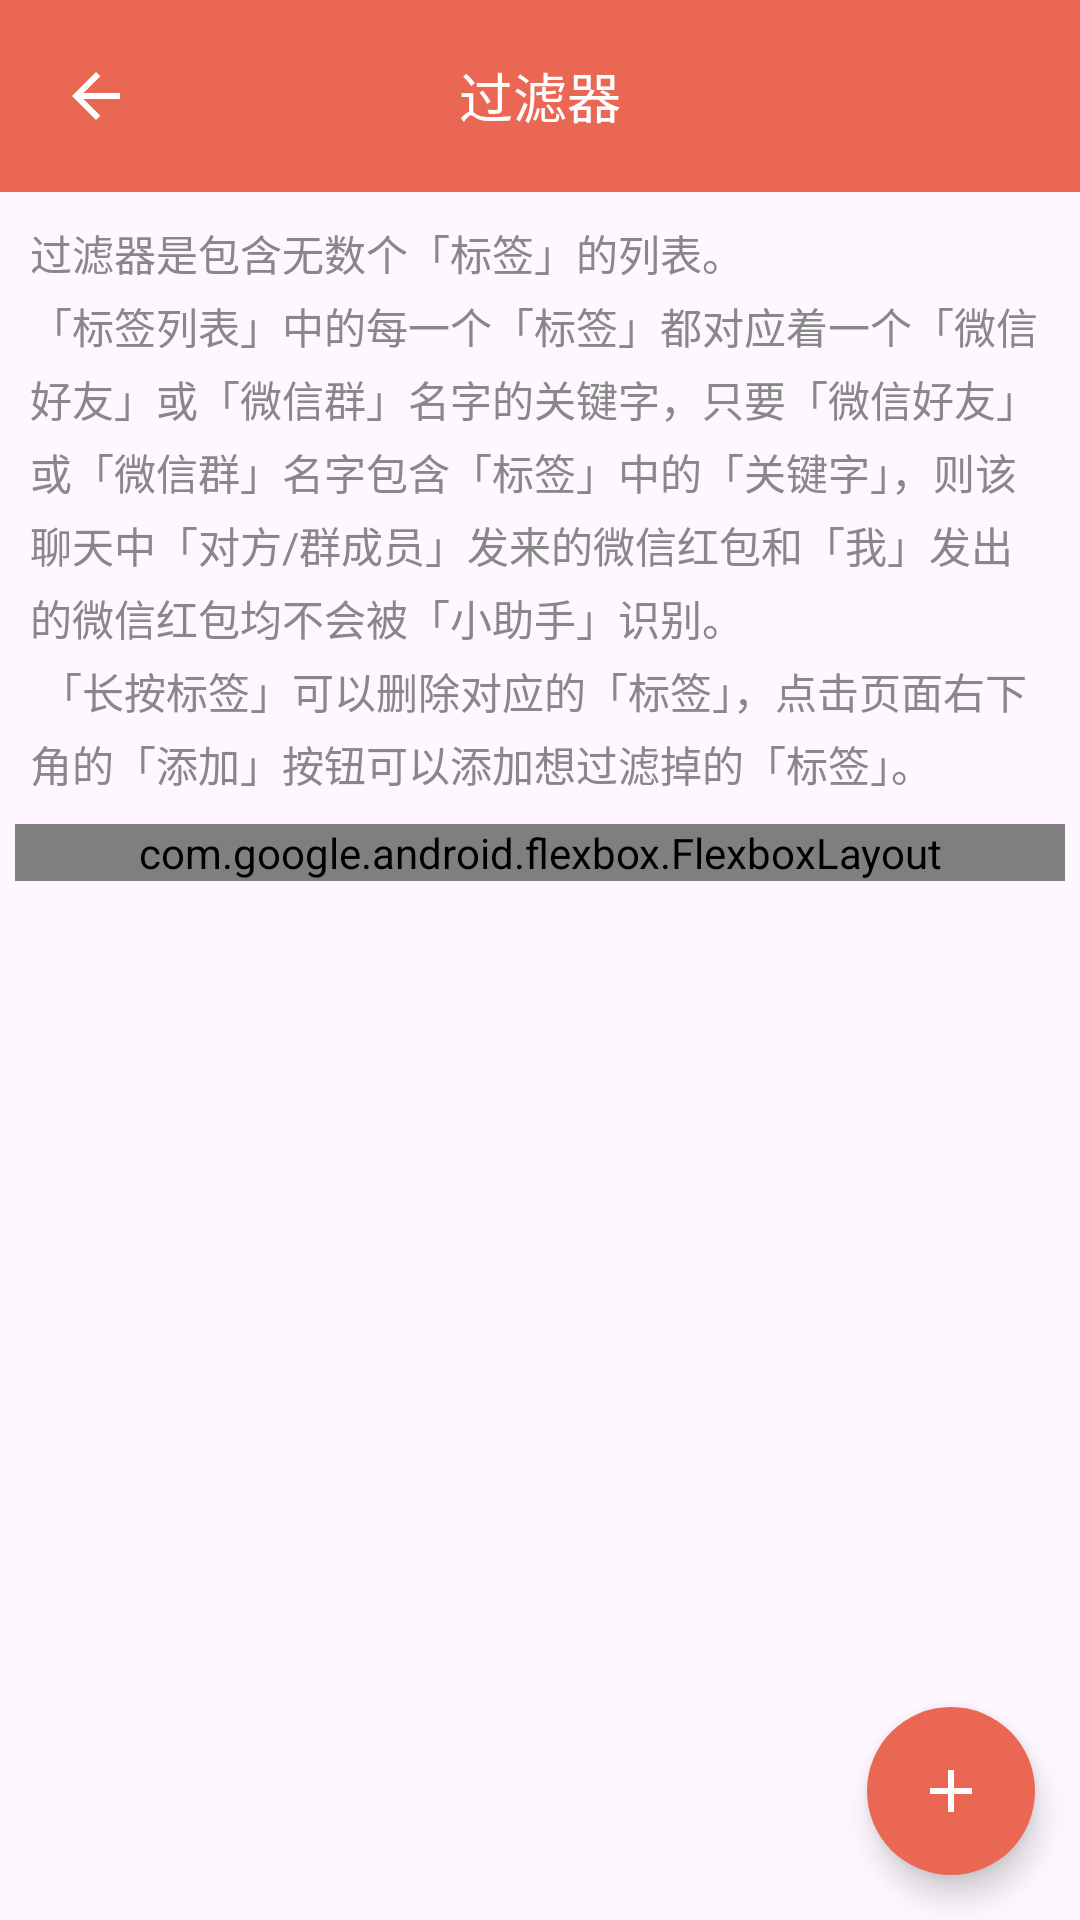

Icons on this 1080x1920 Android screen, each with the point to tap as point (x, y):
back: point (96, 96)
添加: point (951, 1791)
